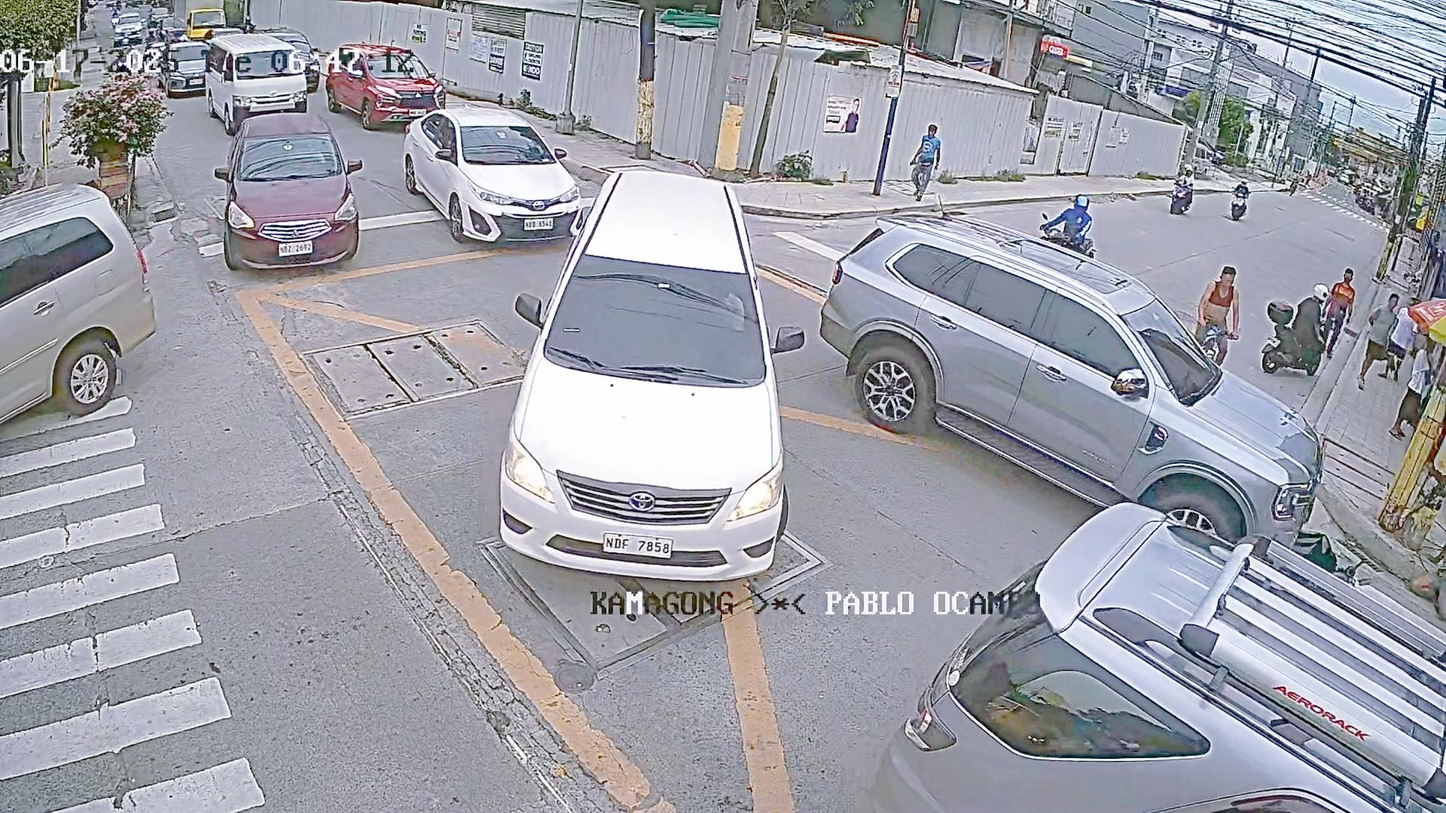Car: (854, 465, 1446, 813), (815, 195, 1301, 556), (494, 158, 848, 606), (0, 164, 181, 420), (194, 113, 381, 283), (390, 93, 584, 255)
Motor: (1023, 189, 1106, 262)
